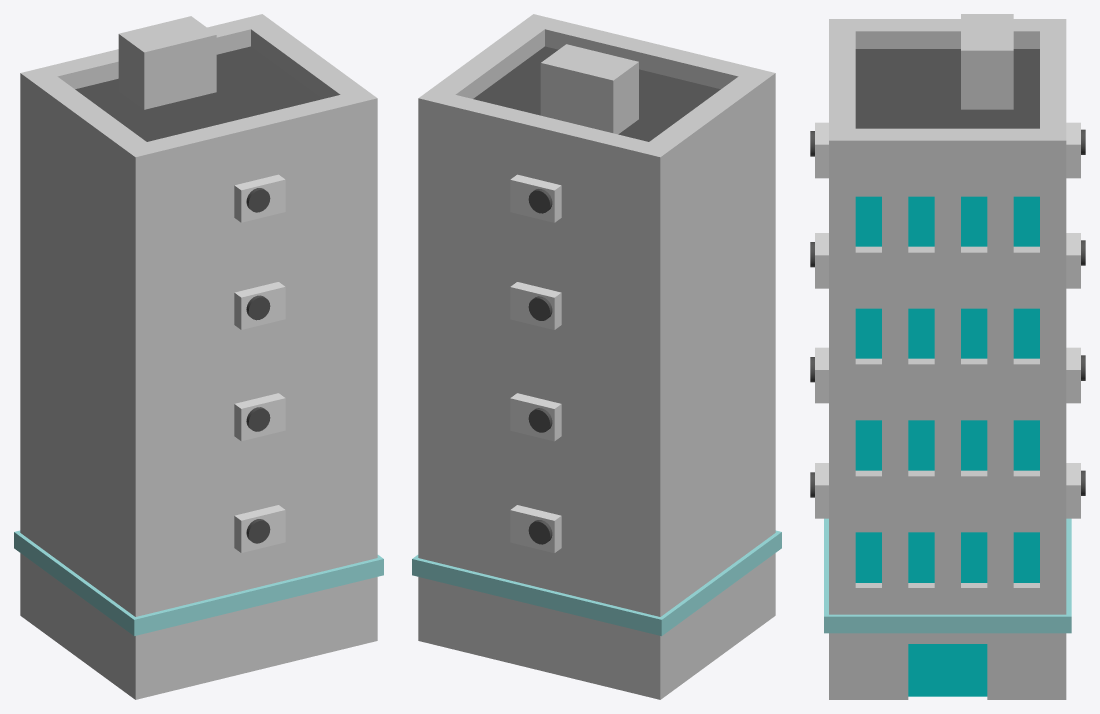
The picture shows the model from 3 angles, left to right: view 1: azimuth 30°, elevation 25°; view 2: azimuth 150°, elevation 25°; view 3: azimuth 270°, elevation 25°; orthographic projection. The views are drawn at different scales.
Parts seen in each view (by area): view 1: pCube1, pCube7, pCube5, pCube3, pCube4, pCube6; view 2: pCube1, pCube7, pCube3, pCube6, pCube5, pCube4; view 3: pCube1, pCube7, pCube3 (×2), pCube5 (×2), pCube4 (×2), pCube6 (×2).
Part boxes in pixels (x1,y1,x2,y2): pCube1: (20,14,377,699); pCube7: (14,530,383,636); pCube5: (234,393,285,441); pCube3: (234,174,285,222); pCube4: (234,282,285,329); pCube6: (234,505,285,552); pCube1: (418,14,775,699); pCube7: (412,530,781,636); pCube3: (510,174,561,222); pCube6: (510,505,561,553); pCube5: (510,393,561,441); pCube4: (510,282,561,329); pCube1: (829,14,1066,699); pCube7: (824,518,1071,633); pCube3 (×2): (815,122,1080,178); pCube5 (×2): (815,347,1080,403); pCube4 (×2): (815,233,1080,288); pCube6 (×2): (815,463,1080,518).
Size of the model in its own units: 190 by 423 by 176.
